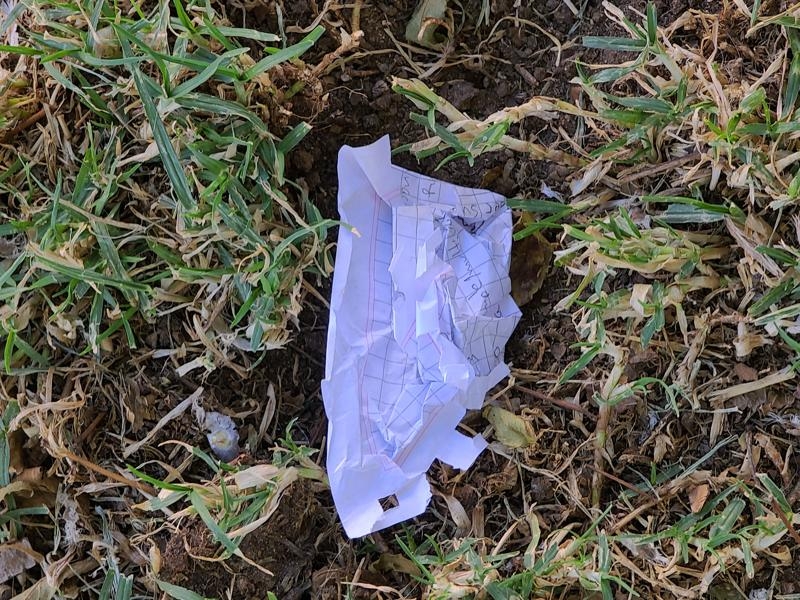papel: (320, 137, 522, 543)
